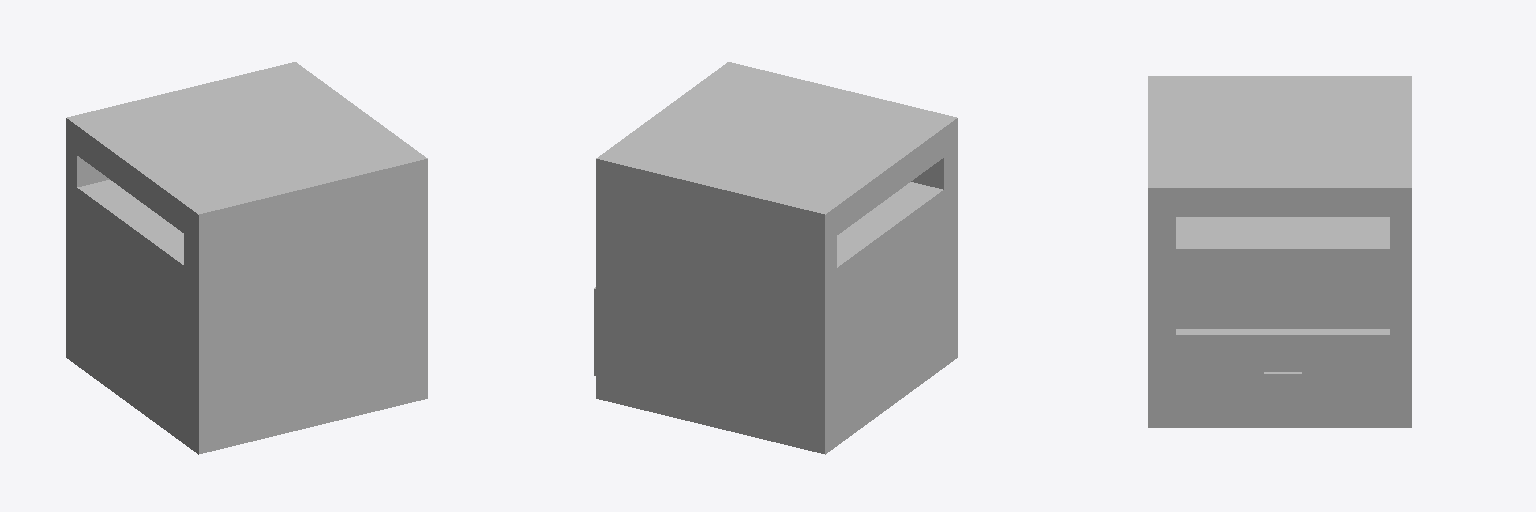
The model's file is desktop3.obj.
3 views of the same model, side by side, from view 1: azimuth 30°, elevation 25°; view 2: azimuth 150°, elevation 25°; view 3: azimuth 270°, elevation 25° (orthographic).
Visible parts, largest first — view 1: Cube; view 2: Cube; view 3: Cube.
Boxes of the visible parts, <box> form: Cube: <box>66,62,427,454</box>; Cube: <box>594,62,957,454</box>; Cube: <box>1148,76,1411,427</box>.
Size of the model in its own units: 2.16 by 2 by 2.